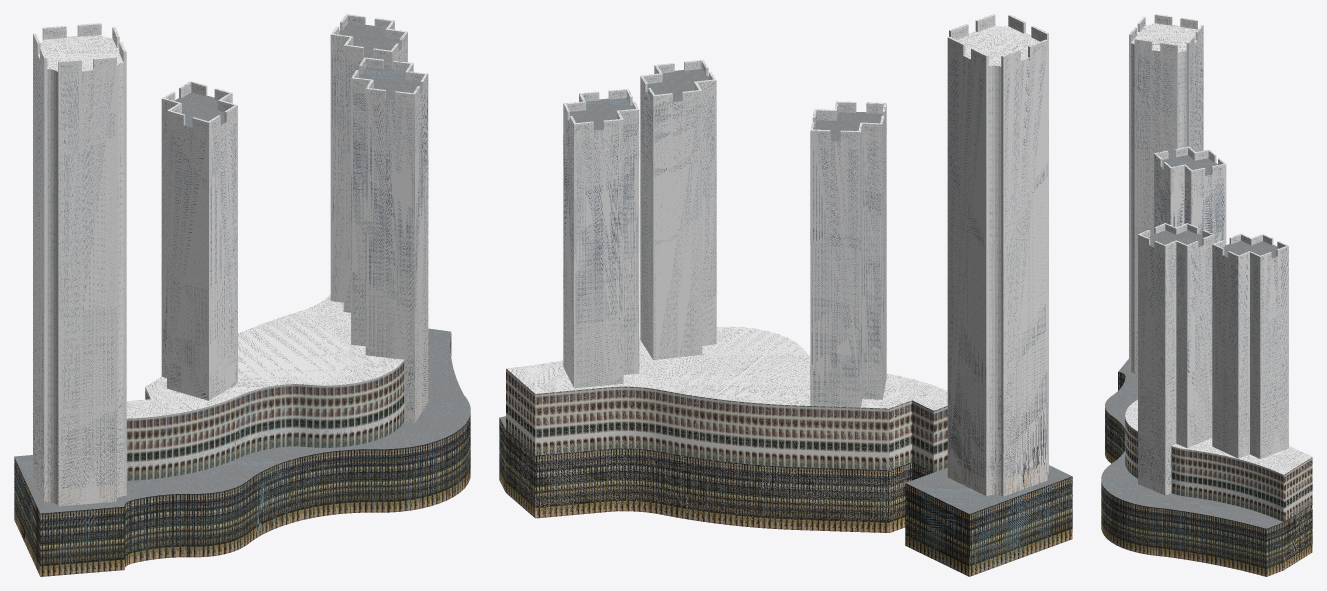
3 views of the same model, side by side, from view 1: azimuth 30°, elevation 25°; view 2: azimuth 150°, elevation 25°; view 3: azimuth 270°, elevation 25° (orthographic). The views are drawn at different scales.
Parts seen in each view (by area): view 1: SketchUp (×12); view 2: SketchUp (×12); view 3: SketchUp (×12).
Boxes of the visible parts, box(x1,y1,x2,y2) form: SketchUp (×12): box(14, 15, 470, 576); SketchUp (×12): box(499, 15, 1072, 576); SketchUp (×12): box(1101, 15, 1312, 576).
Size of the model in its own units: 12928 by 6309 by 12672.
